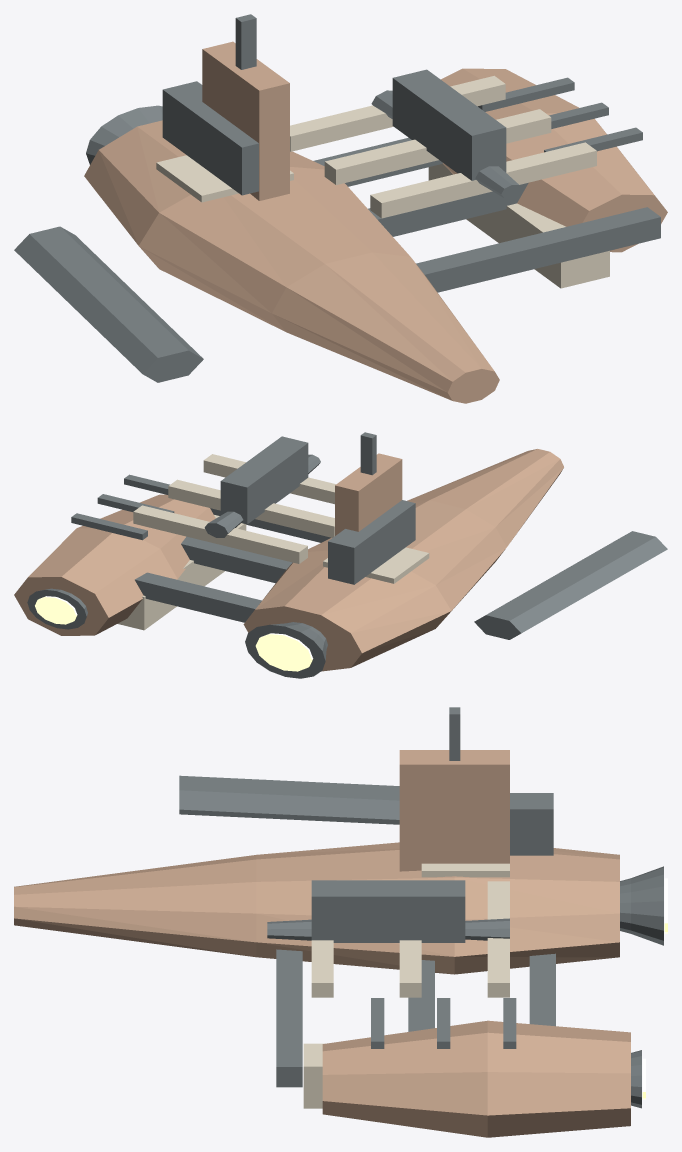
3 renders of one model, top to bottom at view 1: azimuth 30°, elevation 25°; view 2: azimuth 150°, elevation 25°; view 3: azimuth 270°, elevation 25°, orthographic. The views are drawn at different scales.
Bounding box in the file's own units: 11.01 × 4.65 × 10.22.
